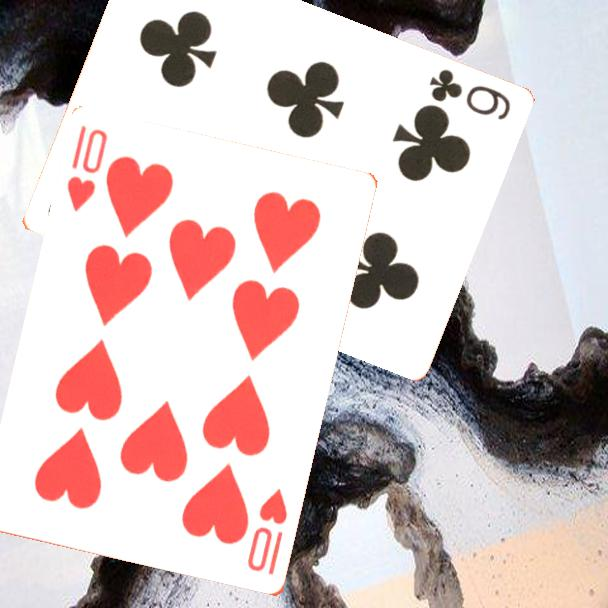c06: (425, 65, 513, 123)
h10: (244, 485, 291, 578), (64, 123, 111, 215)
